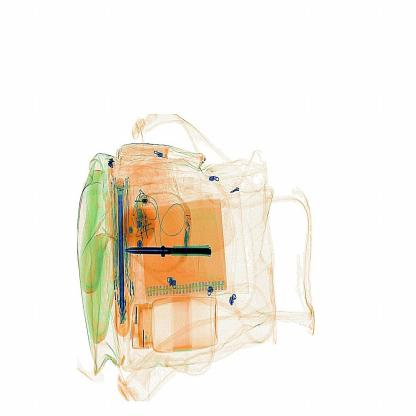gun: (119, 238, 216, 264)
